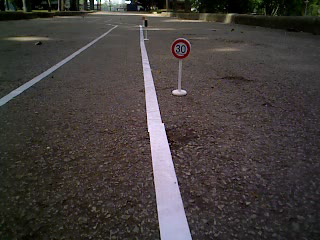limit 30: (169, 36, 194, 62)
